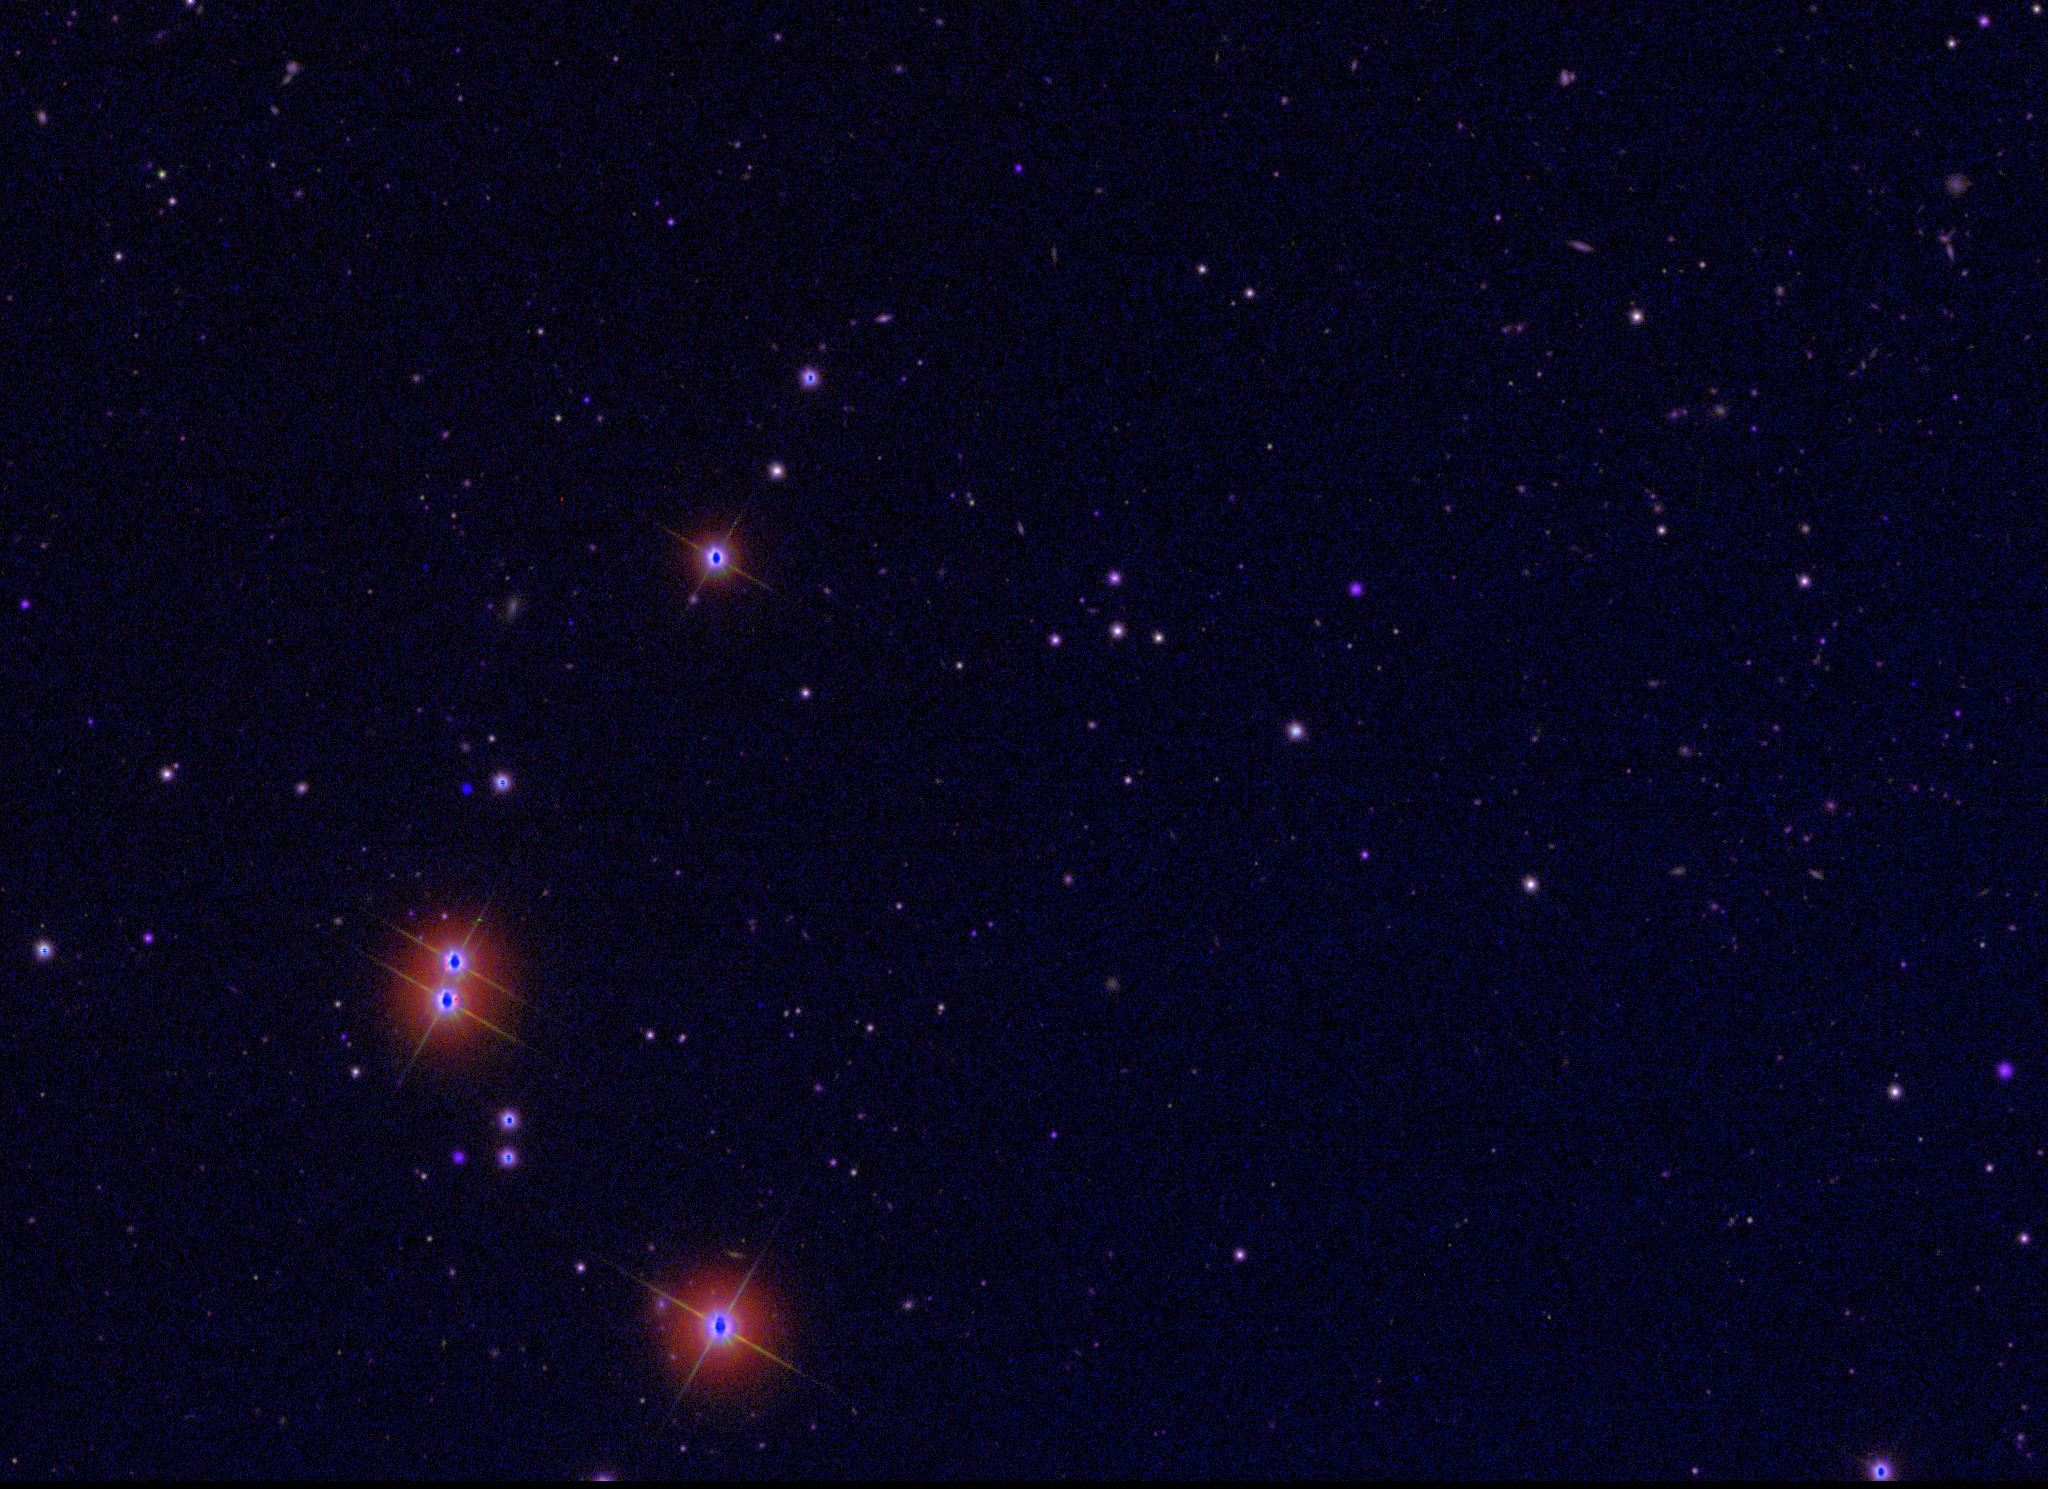L: (460, 783, 474, 795)
